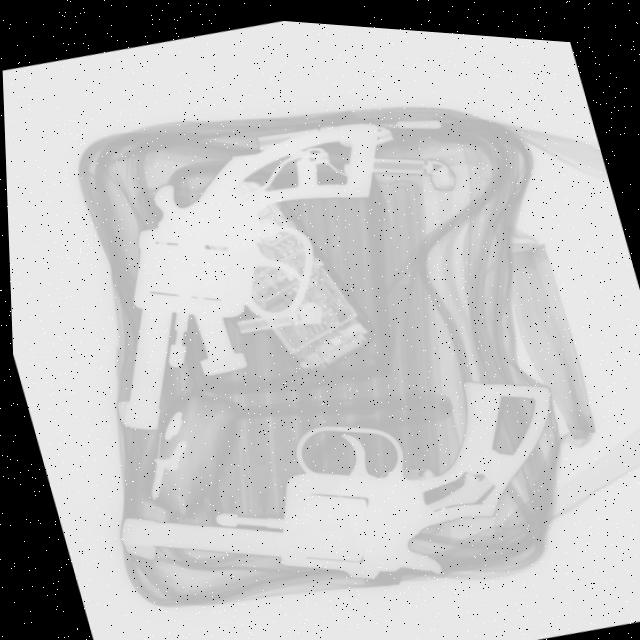pistol: (84, 328, 594, 640), (44, 90, 446, 455)
